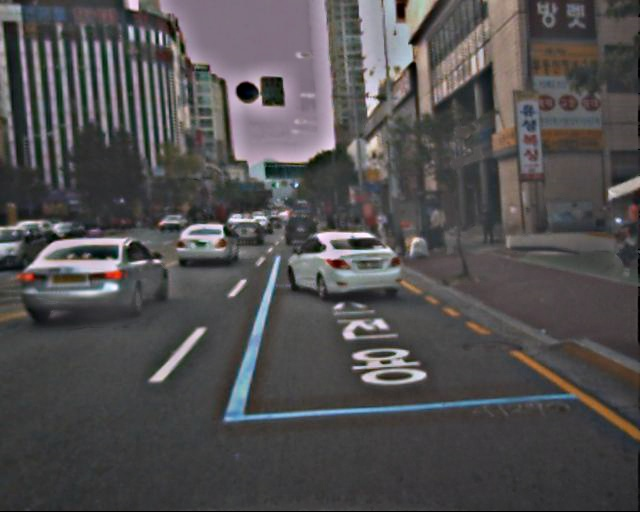person: (427, 205, 448, 255), (374, 208, 390, 247), (480, 209, 496, 247)
